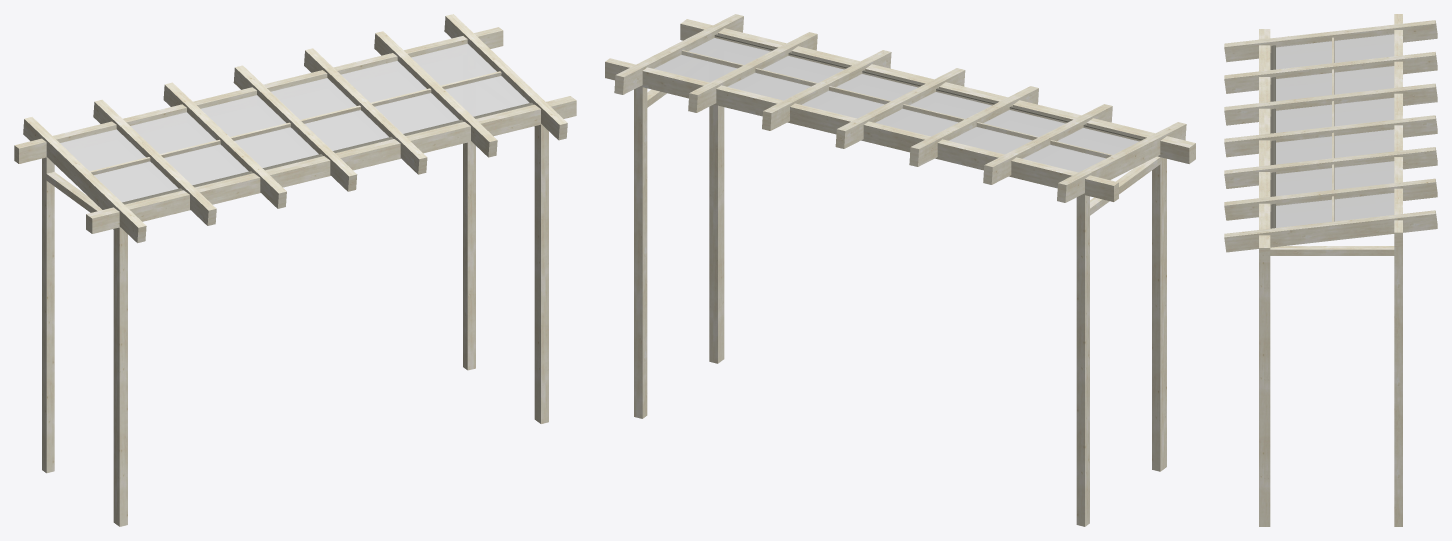
The model's file is 3900-1250_whitepine.fbx.
3 renders of one model, left to right at view 1: azimuth 30°, elevation 25°; view 2: azimuth 150°, elevation 25°; view 3: azimuth 270°, elevation 25°, orthographic. The views are drawn at different scales.
Visible parts, largest first — view 1: 3900-1250_whitepine; view 2: 3900-1250_whitepine; view 3: 3900-1250_whitepine.
Part boxes in pixels (box(x1,y1,x2,y2)): 3900-1250_whitepine: box(14, 14, 576, 526); 3900-1250_whitepine: box(605, 14, 1195, 526); 3900-1250_whitepine: box(1224, 14, 1437, 526).
Bounding box in the file's own units: 448 × 299 × 185.
Materials: 3 (2 with a texture image).
